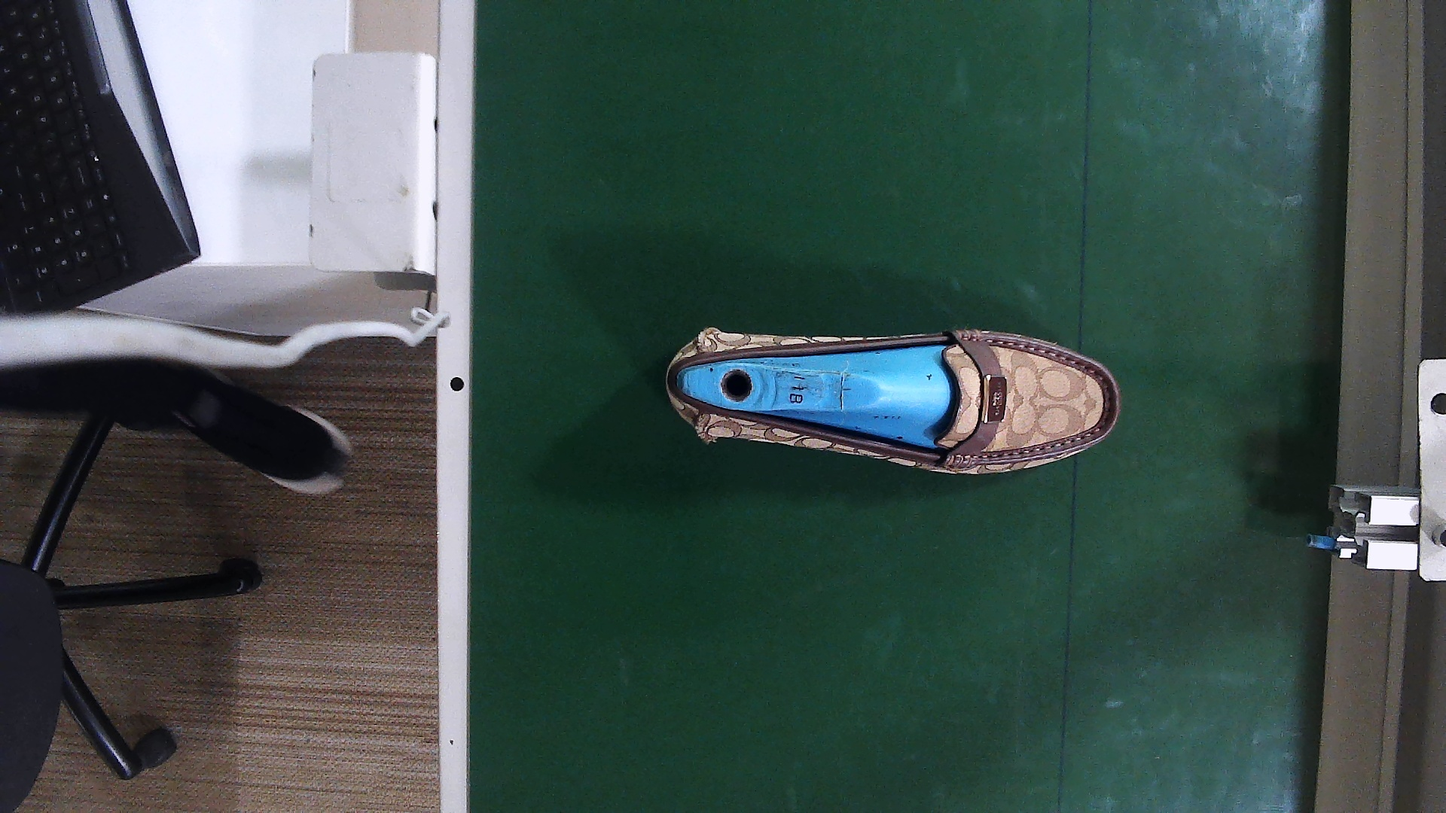shoe: (667, 332, 1117, 474)
